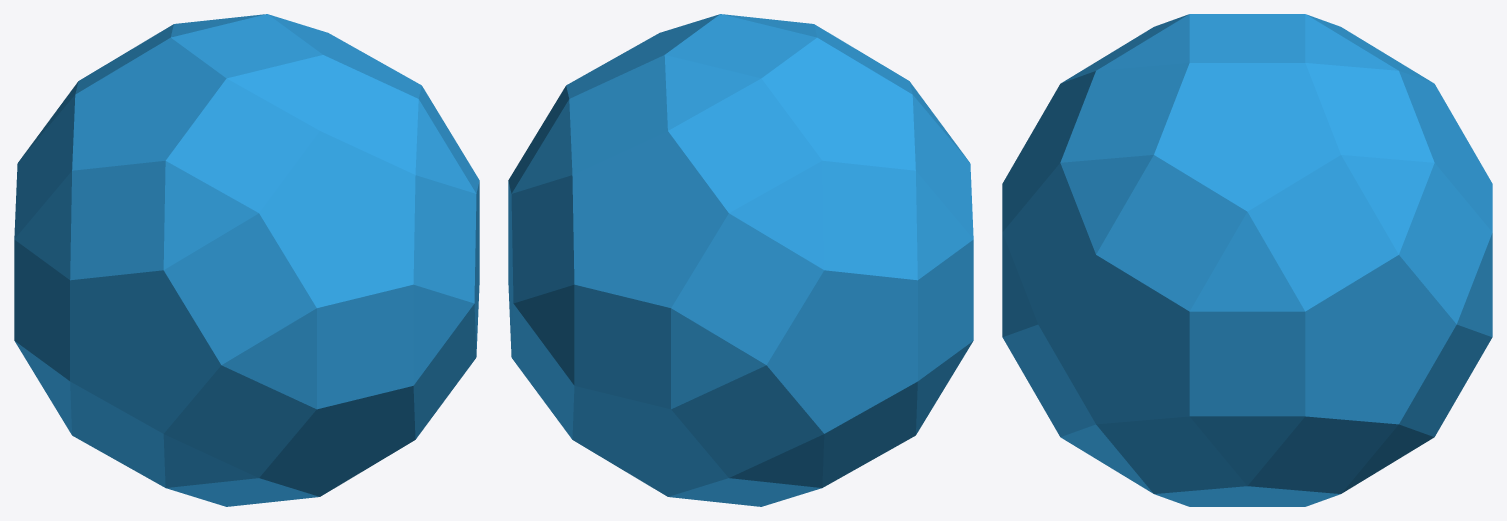
File: rhombicosidodecahedron.gltf
The picture shows the model from 3 angles, left to right: view 1: azimuth 30°, elevation 25°; view 2: azimuth 150°, elevation 25°; view 3: azimuth 270°, elevation 25°; orthographic projection. The views are drawn at different scales.
Parts seen in each view (by area): view 1: Solid.002; view 2: Solid.002; view 3: Solid.002.
Part boxes in pixels (bbox=[...]): Solid.002: bbox=[14, 14, 479, 506]; Solid.002: bbox=[508, 14, 973, 506]; Solid.002: bbox=[1002, 14, 1492, 506].
Bounding box in the file's own units: 1.63 × 1.63 × 1.63.
